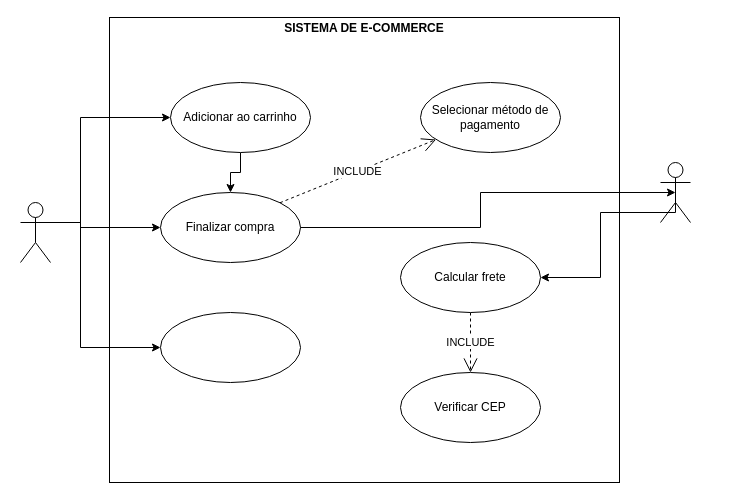
Some shapes in this 755 by 500 pixel diagram are drawn without their labels. Each missing label, with the centre of its shape:
"Avaliar produto" belongs at point 230,347.
"Cliente" belongs at point 35,232.
"Sistema de Pagamento" belongs at point 675,192.
